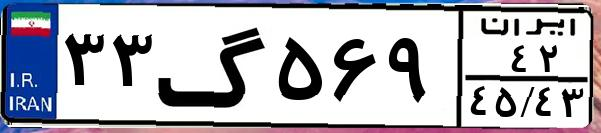2: (537, 27, 568, 80)
3: (57, 26, 110, 100), (110, 28, 156, 98), (560, 70, 590, 125)
4: (508, 27, 537, 80), (470, 70, 495, 125), (535, 70, 560, 125)
5: (270, 28, 330, 110), (495, 70, 520, 125)
6: (330, 28, 385, 110)
9: (385, 28, 445, 110)
گ: (156, 12, 270, 120)
